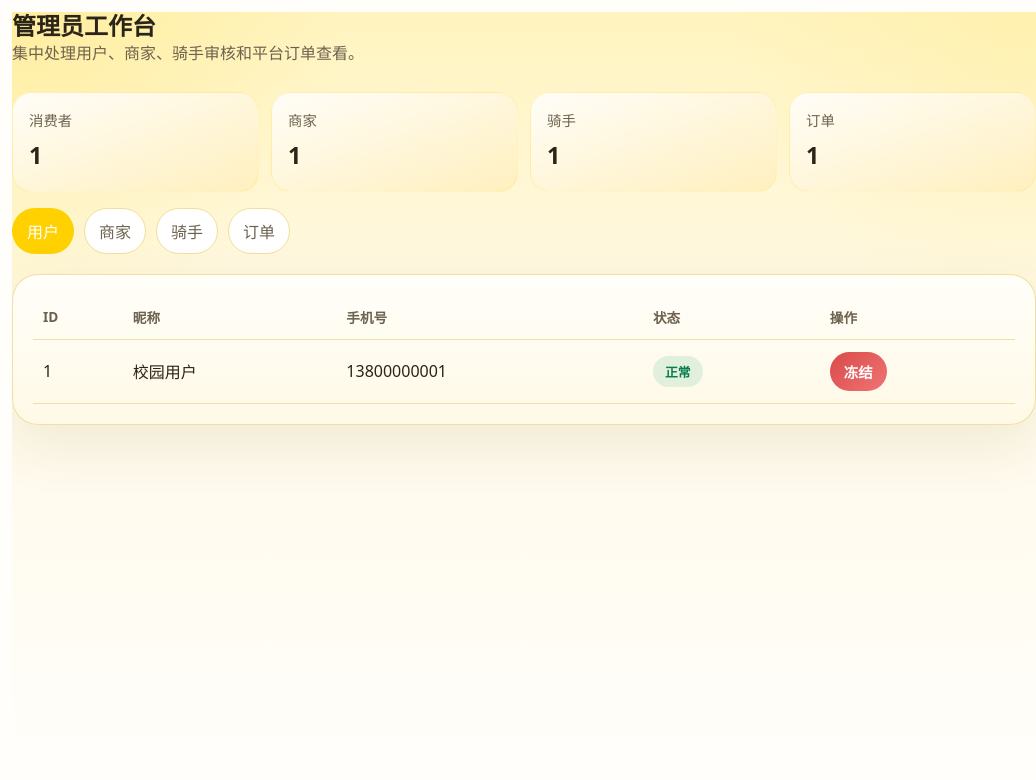
Test: AdminConsole page › shows platform orders in the order tab
This screenshot has width=1036, height=780.
Check: the text "校园用户" is shown, box [123,339,336,404]
Click the button "订单": coordinates (259, 231) [228,208,290,254]
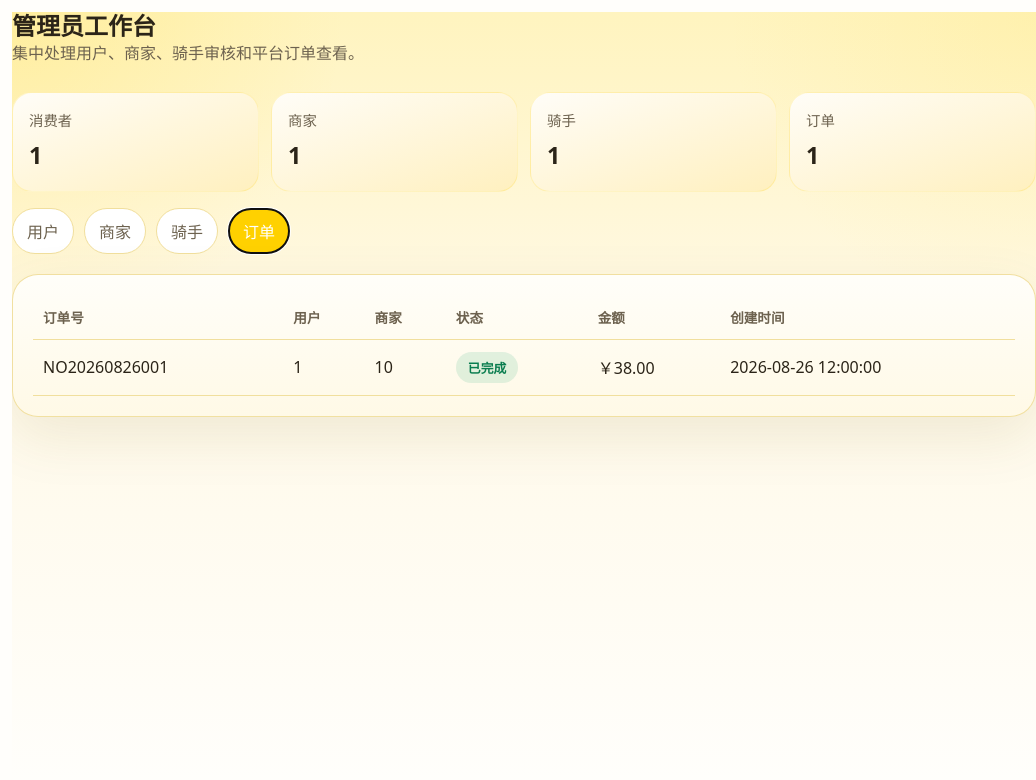
Check: the text "NO20260826001" is shown, box [33,339,283,395]
Check: the text "￥38.00" is shown, box [588,339,720,395]
Check: the text "已完成" is shown, box [456,352,518,383]
